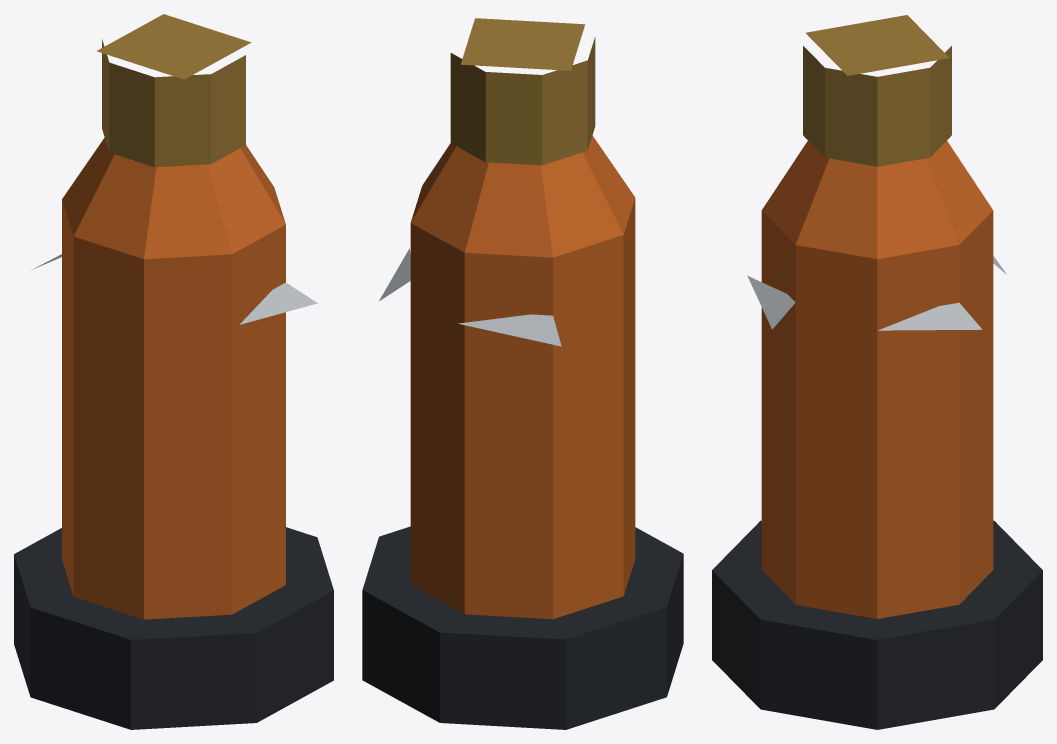
The model's file is machinists-catalyzer.lod.glb.
3 renders of one model, left to right at view 1: azimuth 30°, elevation 25°; view 2: azimuth 150°, elevation 25°; view 3: azimuth 270°, elevation 25°, orthographic.
Visible parts, largest first — view 1: m; view 2: m; view 3: m.
Boxes of the visible parts, x1,y1,x2,y2 form: m: (14,14,333,729); m: (362,18,683,729); m: (712,15,1042,729).
Size of the model in its own units: 0.039 by 0.08 by 0.039.
